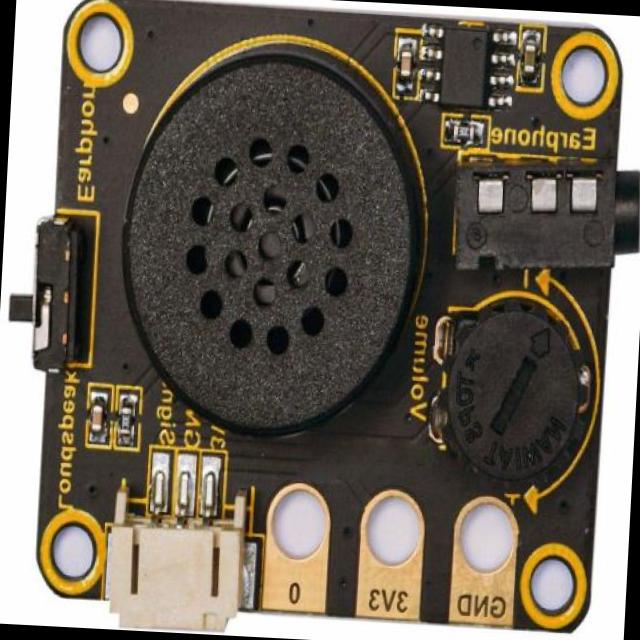IC: (424, 22, 508, 118)
capacitor: (85, 398, 107, 440), (522, 38, 538, 87), (396, 47, 416, 80)
connector: (440, 155, 640, 280), (105, 468, 248, 636)
potentiometer: (429, 299, 588, 477)
resistor: (439, 124, 490, 151), (118, 392, 136, 442)
